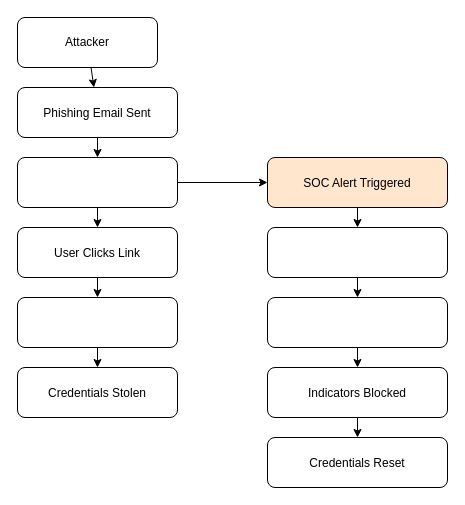
This 465x505 diagram has some shape labels left out. The shapes that lost their labels are listed below. From the top down, each one's centre as x and y in pixels, then its label:
(97,182): User Receives Email
(357,252): Investigation Started
(97,322): Fake Login Page
(357,322): Endpoint Isolated
